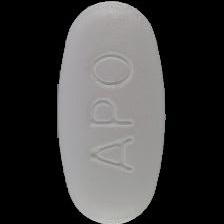60505-3247: (0, 0, 224, 224)
